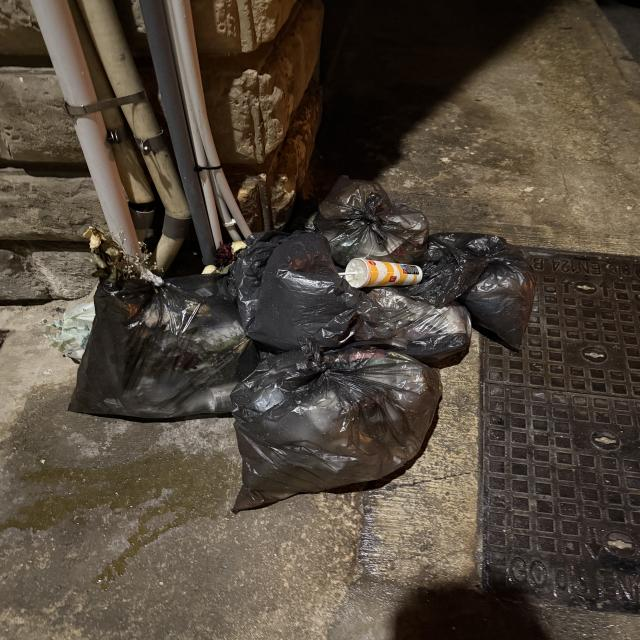Mixed Waste -Black Bags-: (67, 178, 538, 512)
